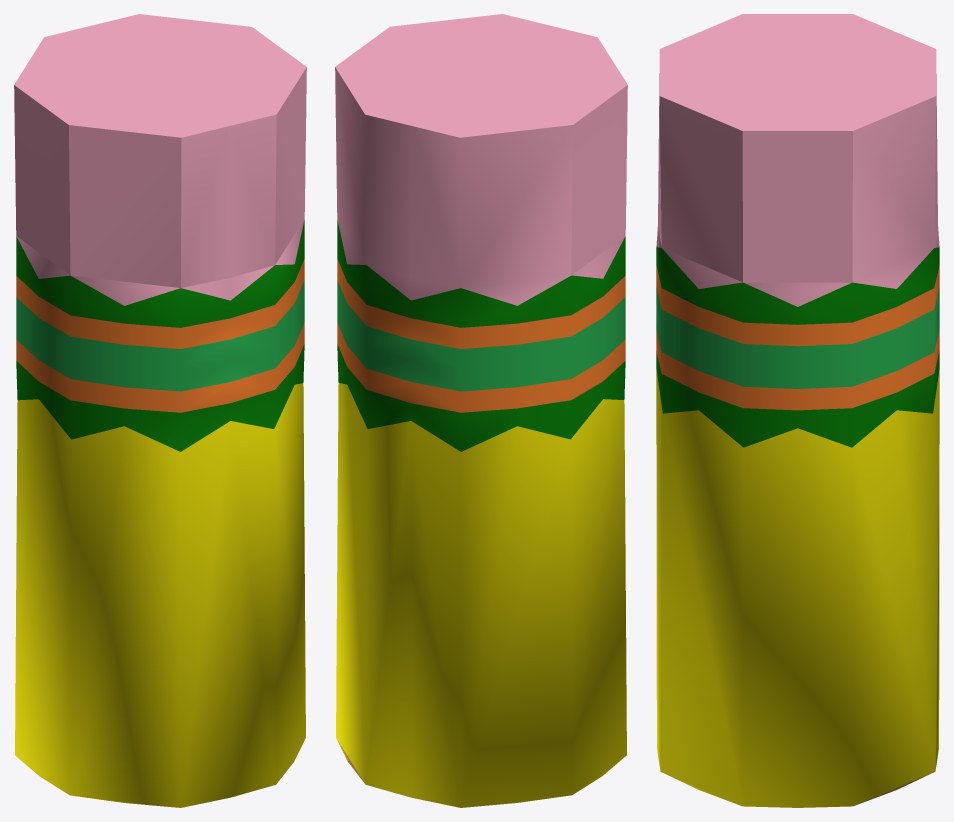
File: PensilBulletModel.fbx
The picture shows the model from 3 angles, left to right: view 1: azimuth 30°, elevation 25°; view 2: azimuth 150°, elevation 25°; view 3: azimuth 270°, elevation 25°; orthographic projection.
Visible parts, largest first — view 1: Pencil Small.001; view 2: Pencil Small.001; view 3: Pencil Small.001.
Part boxes in pixels (left/top/right/bottom): Pencil Small.001: left=14, top=14, right=306, bottom=807; Pencil Small.001: left=335, top=14, right=627, bottom=807; Pencil Small.001: left=656, top=14, right=939, bottom=807.
Size of the model in its own units: 40 by 40 by 105.
1 material, 1 textured.
